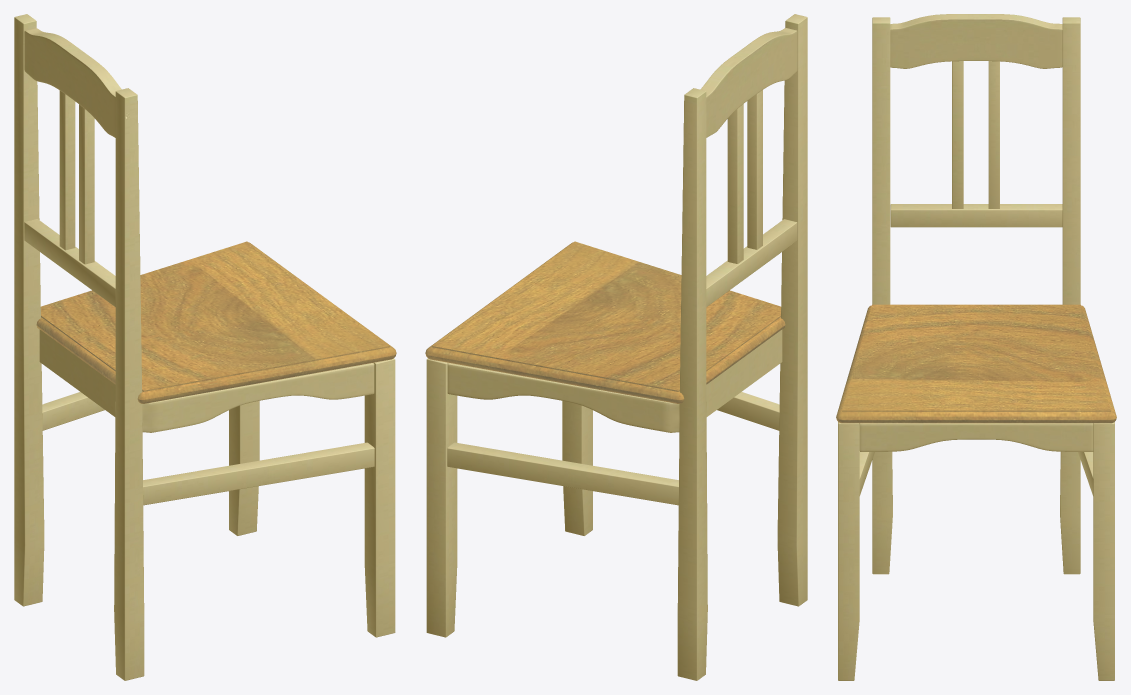
File: example2.glb
3 views of the same model, side by side, from view 1: azimuth 30°, elevation 25°; view 2: azimuth 150°, elevation 25°; view 3: azimuth 270°, elevation 25° (orthographic). The views are drawn at different scales.
Visible parts, largest first — view 1: Cube_2, сидушка; view 2: Cube_2, сидушка; view 3: Cube_2, сидушка.
Part boxes in pixels (bbox=[...]): Cube_2: bbox=[14, 14, 395, 680]; сидушка: bbox=[36, 241, 396, 403]; Cube_2: bbox=[426, 14, 807, 680]; сидушка: bbox=[425, 241, 785, 403]; Cube_2: bbox=[838, 14, 1114, 680]; сидушка: bbox=[836, 304, 1116, 423].
Size of the model in its own units: 0.4529 by 0.9973 by 0.46.
2 materials, 2 textured.
